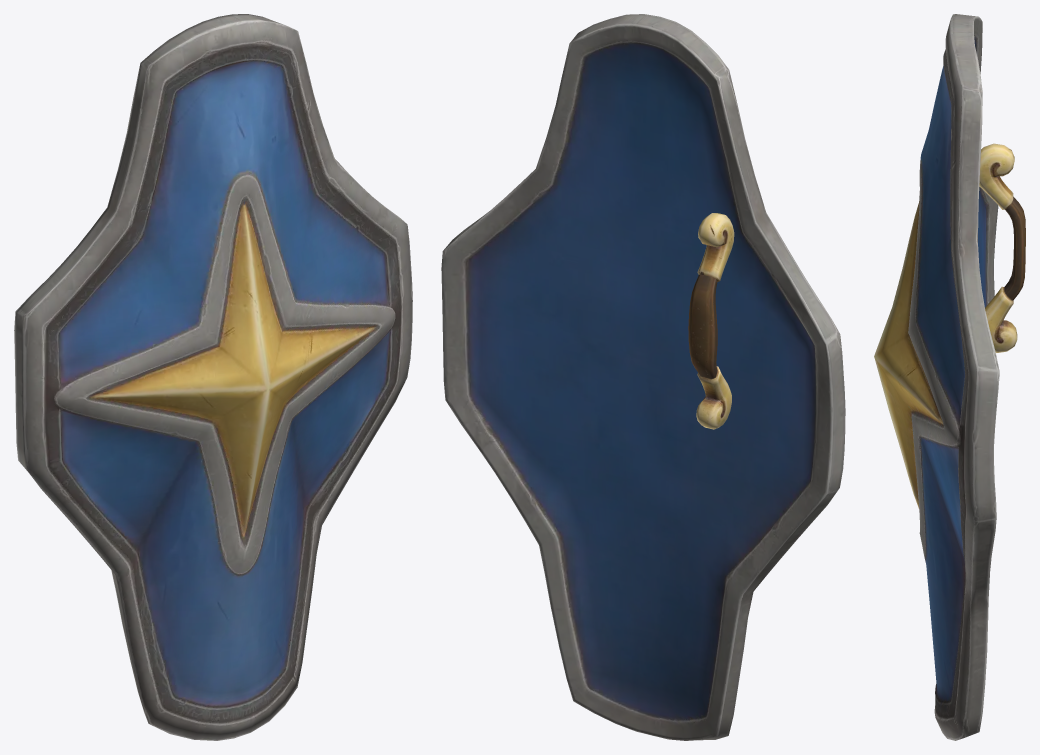
3 views of the same model, side by side, from view 1: azimuth 30°, elevation 25°; view 2: azimuth 150°, elevation 25°; view 3: azimuth 270°, elevation 25° (orthographic). The views are drawn at different scales.
Parts seen in each view (by area): view 1: SM_Kite_Zilyana_1H_01_LOD0; view 2: SM_Kite_Zilyana_1H_01_LOD0; view 3: SM_Kite_Zilyana_1H_01_LOD0.
Boxes of the visible parts, x1,y1,x2,y2 form: SM_Kite_Zilyana_1H_01_LOD0: (14, 14, 412, 740); SM_Kite_Zilyana_1H_01_LOD0: (441, 14, 845, 740); SM_Kite_Zilyana_1H_01_LOD0: (874, 14, 1025, 740).
Size of the model in its own units: 0.6754 by 1.18 by 0.2314.
Materials: 1 (1 with a texture image).
